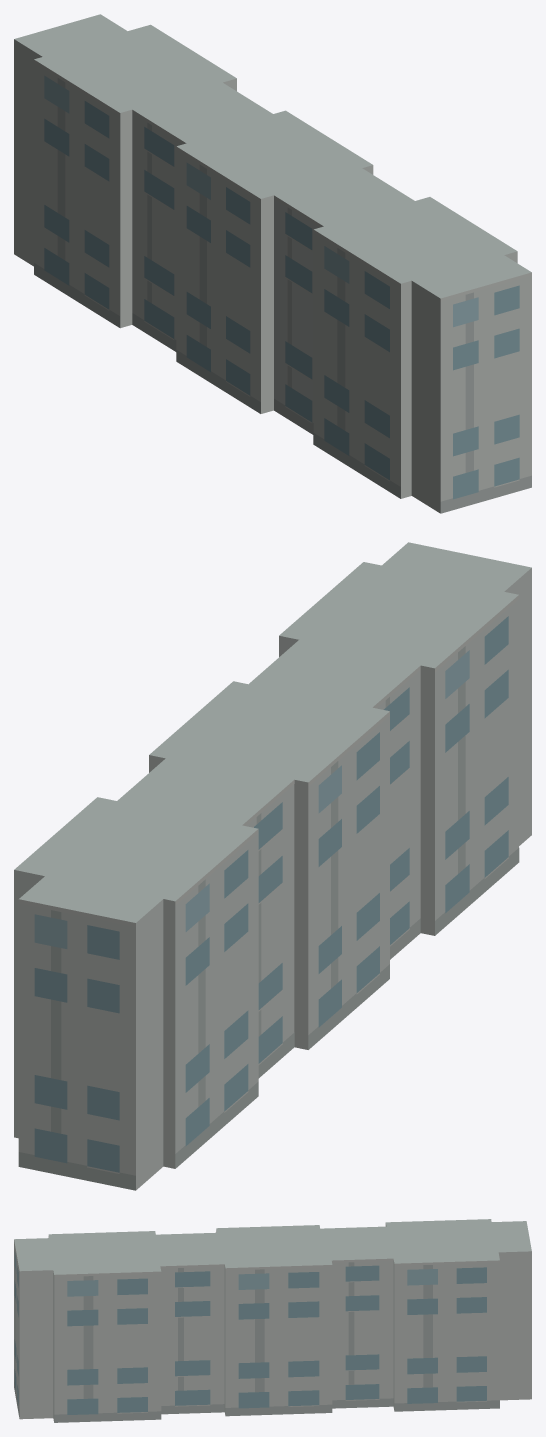
The model's file is survey-upis-32912363.glb.
3 renders of one model, top to bottom at view 1: azimuth 30°, elevation 25°; view 2: azimuth 150°, elevation 25°; view 3: azimuth 270°, elevation 25°, orthographic. The views are drawn at different scales.
Parts seen in each view (by area): view 1: survey-upis-32912363.tmp; view 2: survey-upis-32912363.tmp; view 3: survey-upis-32912363.tmp.
Part boxes in pixels (box(x1,y1,x2,y2)): survey-upis-32912363.tmp: box(14, 14, 531, 513); survey-upis-32912363.tmp: box(14, 542, 531, 1190); survey-upis-32912363.tmp: box(14, 1219, 531, 1422).
Size of the model in its own units: 12.34 by 15.25 by 48.36.
